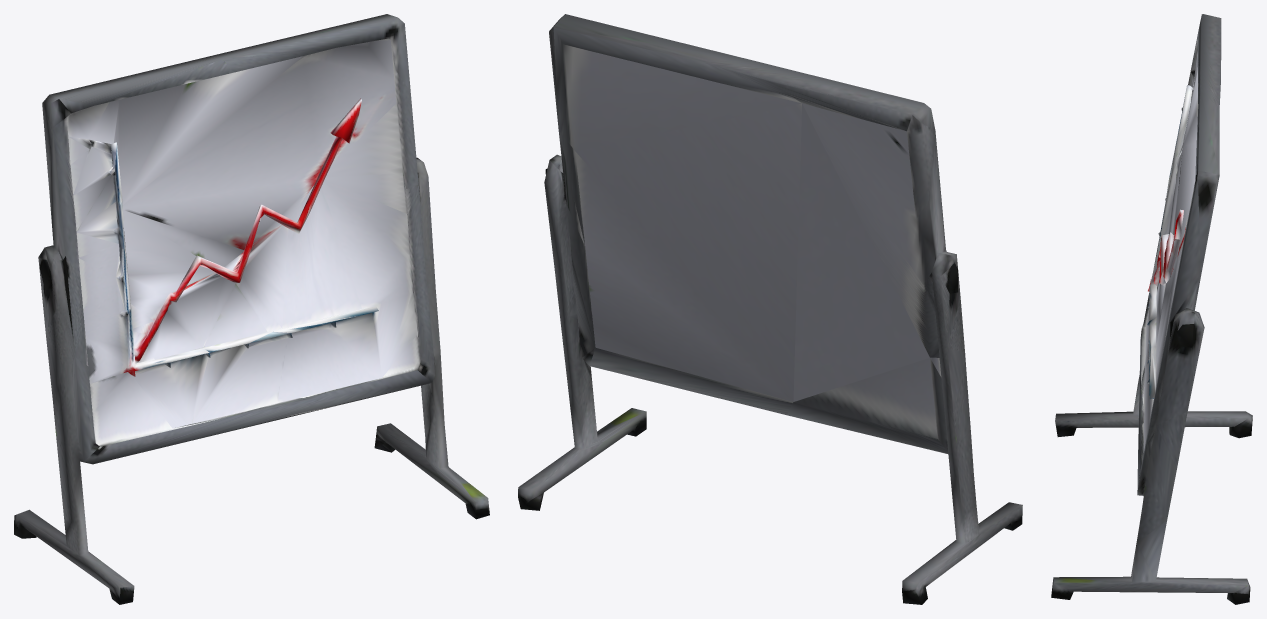
The model's file is board.glb.
3 renders of one model, left to right at view 1: azimuth 30°, elevation 25°; view 2: azimuth 150°, elevation 25°; view 3: azimuth 270°, elevation 25°, orthographic. The views are drawn at different scales.
Parts seen in each view (by area): view 1: Mesh_0.002; view 2: Mesh_0.002; view 3: Mesh_0.002.
Part boxes in pixels (x1=…): Mesh_0.002: x1=14, y1=14, x2=489, y2=604; Mesh_0.002: x1=518, y1=14, x2=1022, y2=604; Mesh_0.002: x1=1051, y1=14, x2=1252, y2=604.
Size of the model in its own units: 0.6116 by 0.6866 by 0.2954.
Materials: 1 (1 with a texture image).
